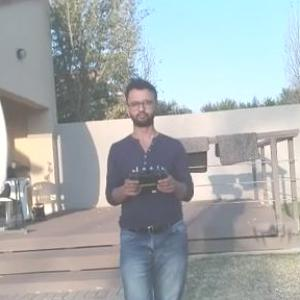follow: (100, 74, 198, 299)
